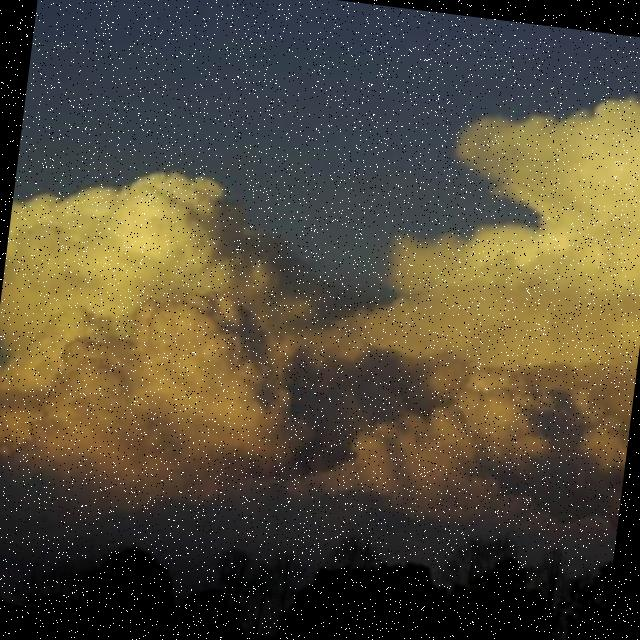Cb: (1, 28, 640, 544)
